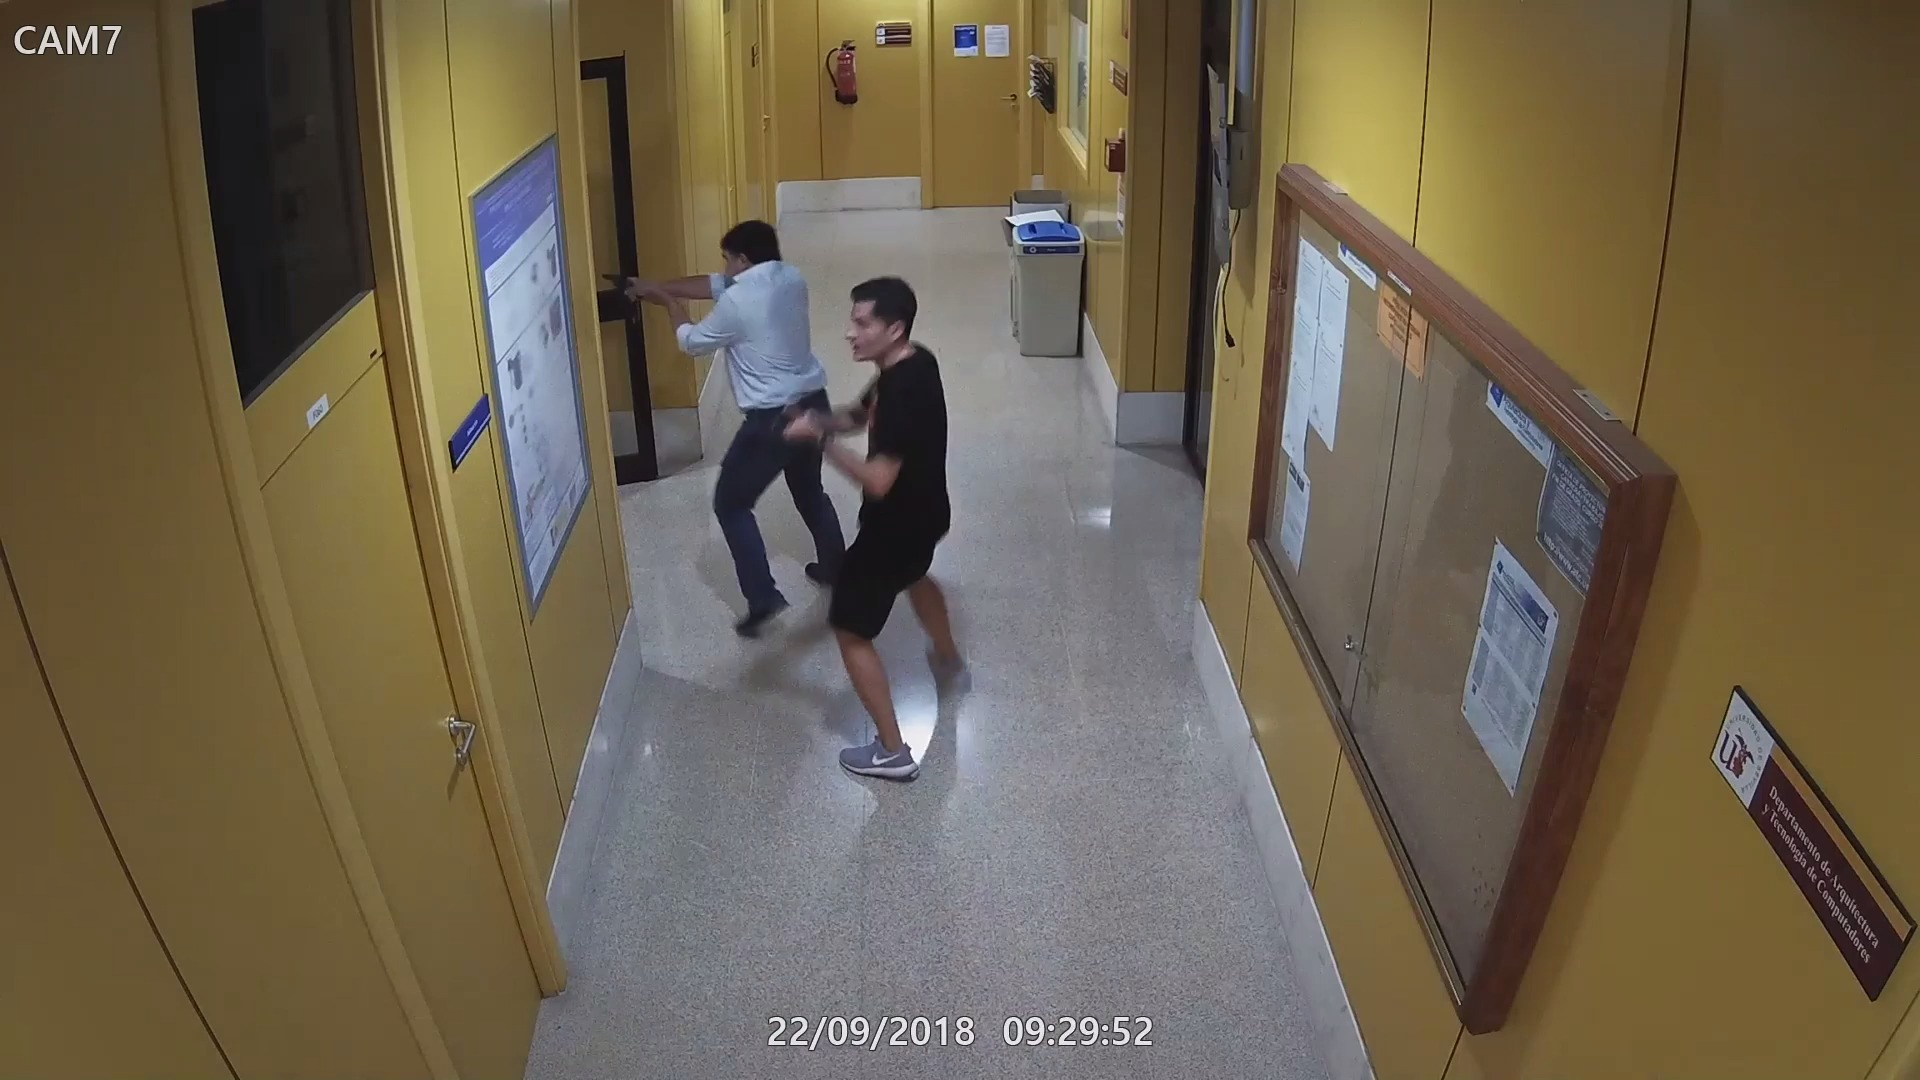Handgun: (740, 394, 815, 451), (599, 260, 636, 298)
